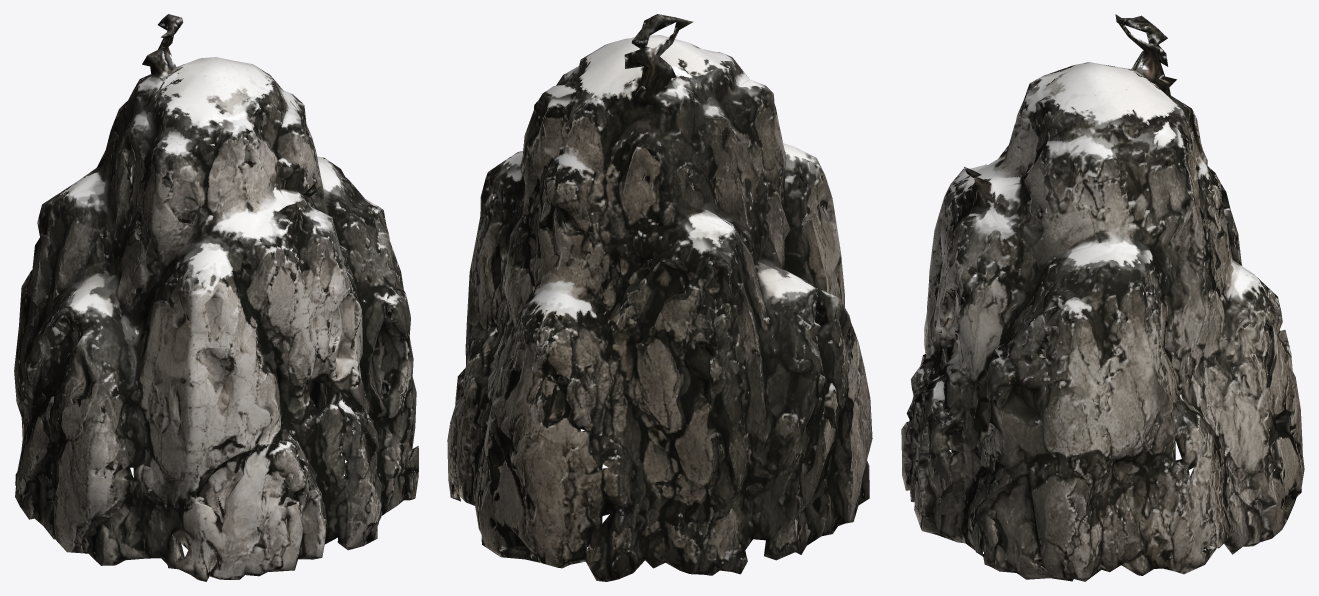
File: InkPart05_ShortPeak.fbx
3 renders of one model, left to right at view 1: azimuth 30°, elevation 25°; view 2: azimuth 150°, elevation 25°; view 3: azimuth 270°, elevation 25°, orthographic. The views are drawn at different scales.
Parts seen in each view (by area): view 1: texture_mapping; view 2: texture_mapping; view 3: texture_mapping.
Boxes of the visible parts, bbox=[...] form: texture_mapping: bbox=[14, 14, 418, 581]; texture_mapping: bbox=[447, 14, 872, 581]; texture_mapping: bbox=[901, 14, 1304, 581].
Size of the model in its own units: 0.7563 by 0.7493 by 0.9872.
Materials: 1 (1 with a texture image).
